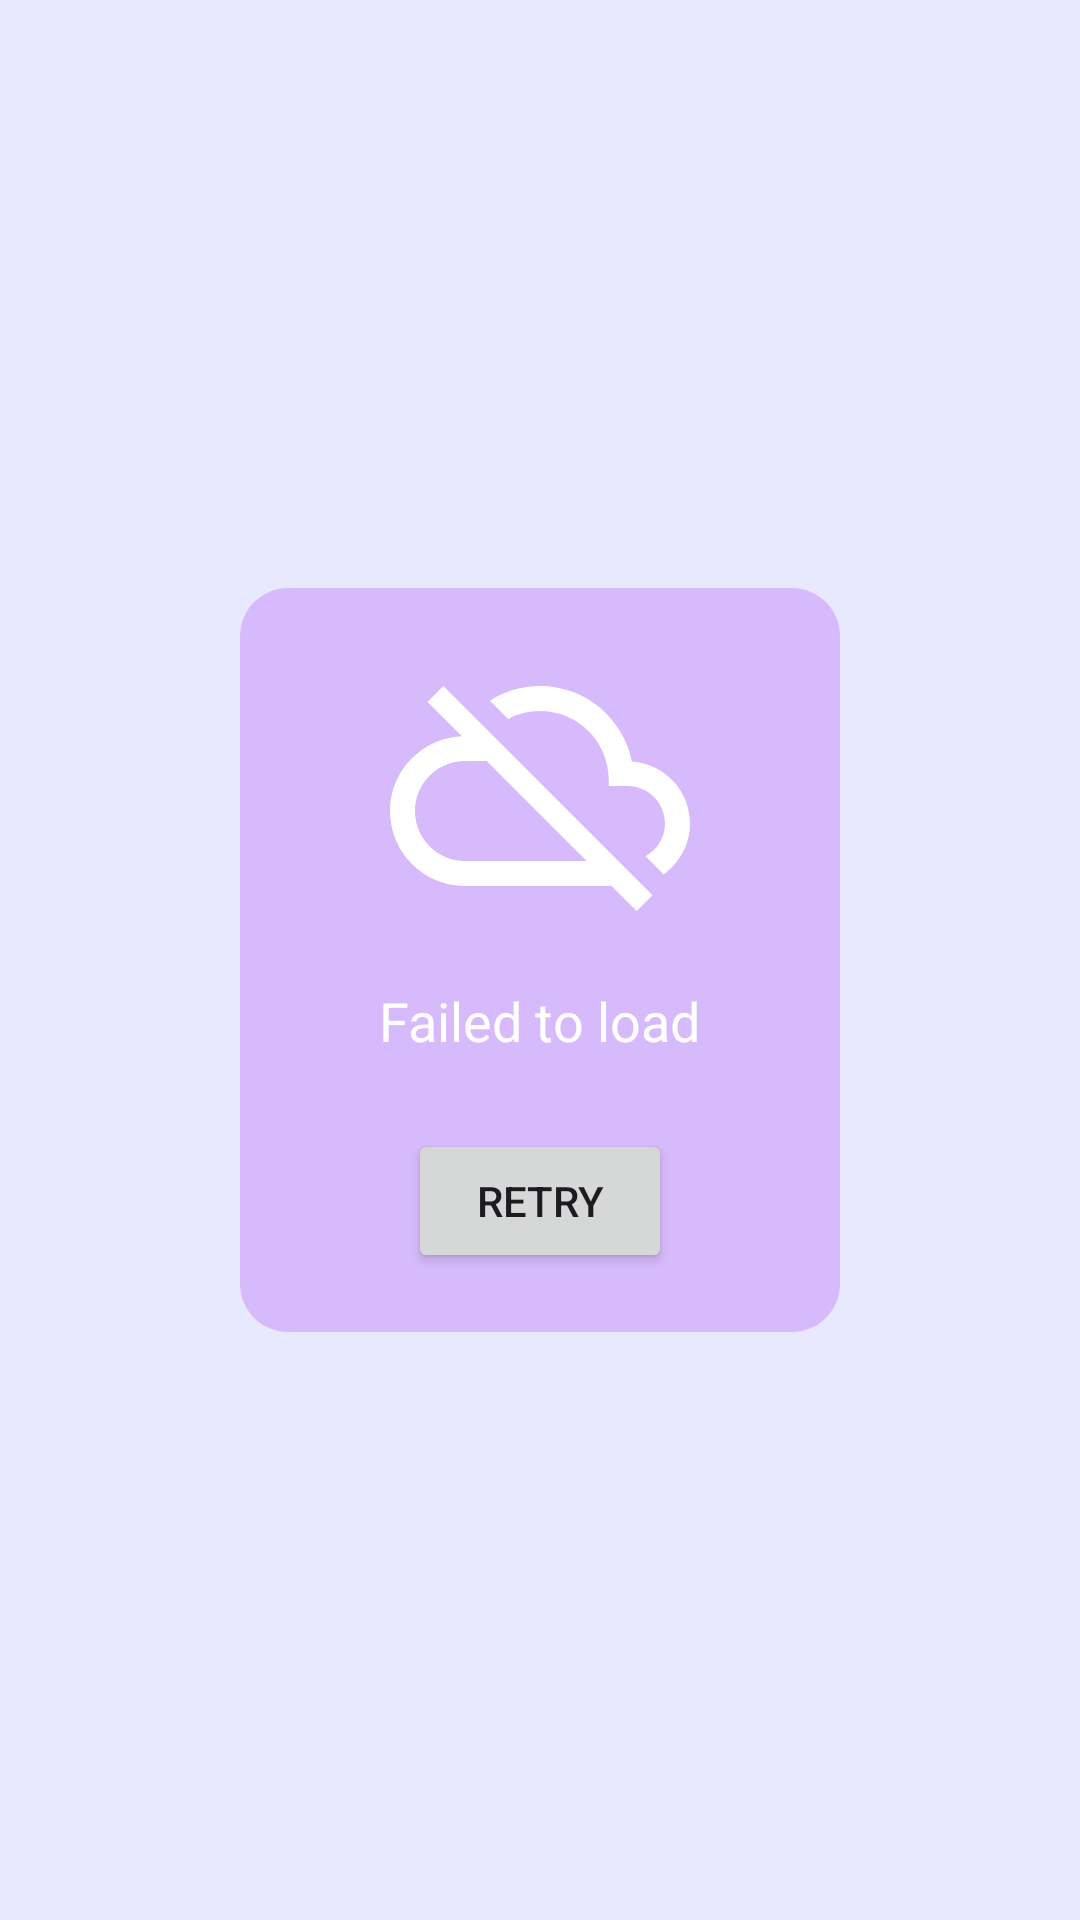

Icon bounding boxes for this 1080px×1920px phone screenshot, format (x1, y1, x2, y2):
connection error: (390, 686, 690, 911)
